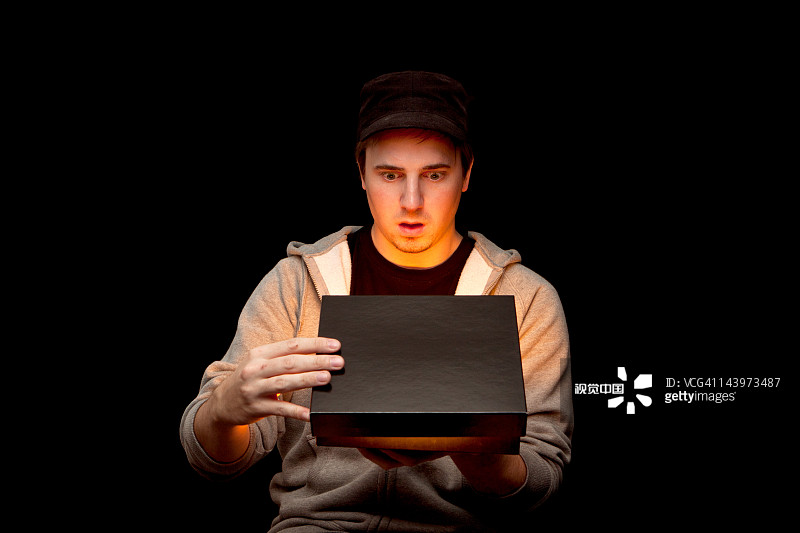no-phone: (189, 328, 350, 442)
